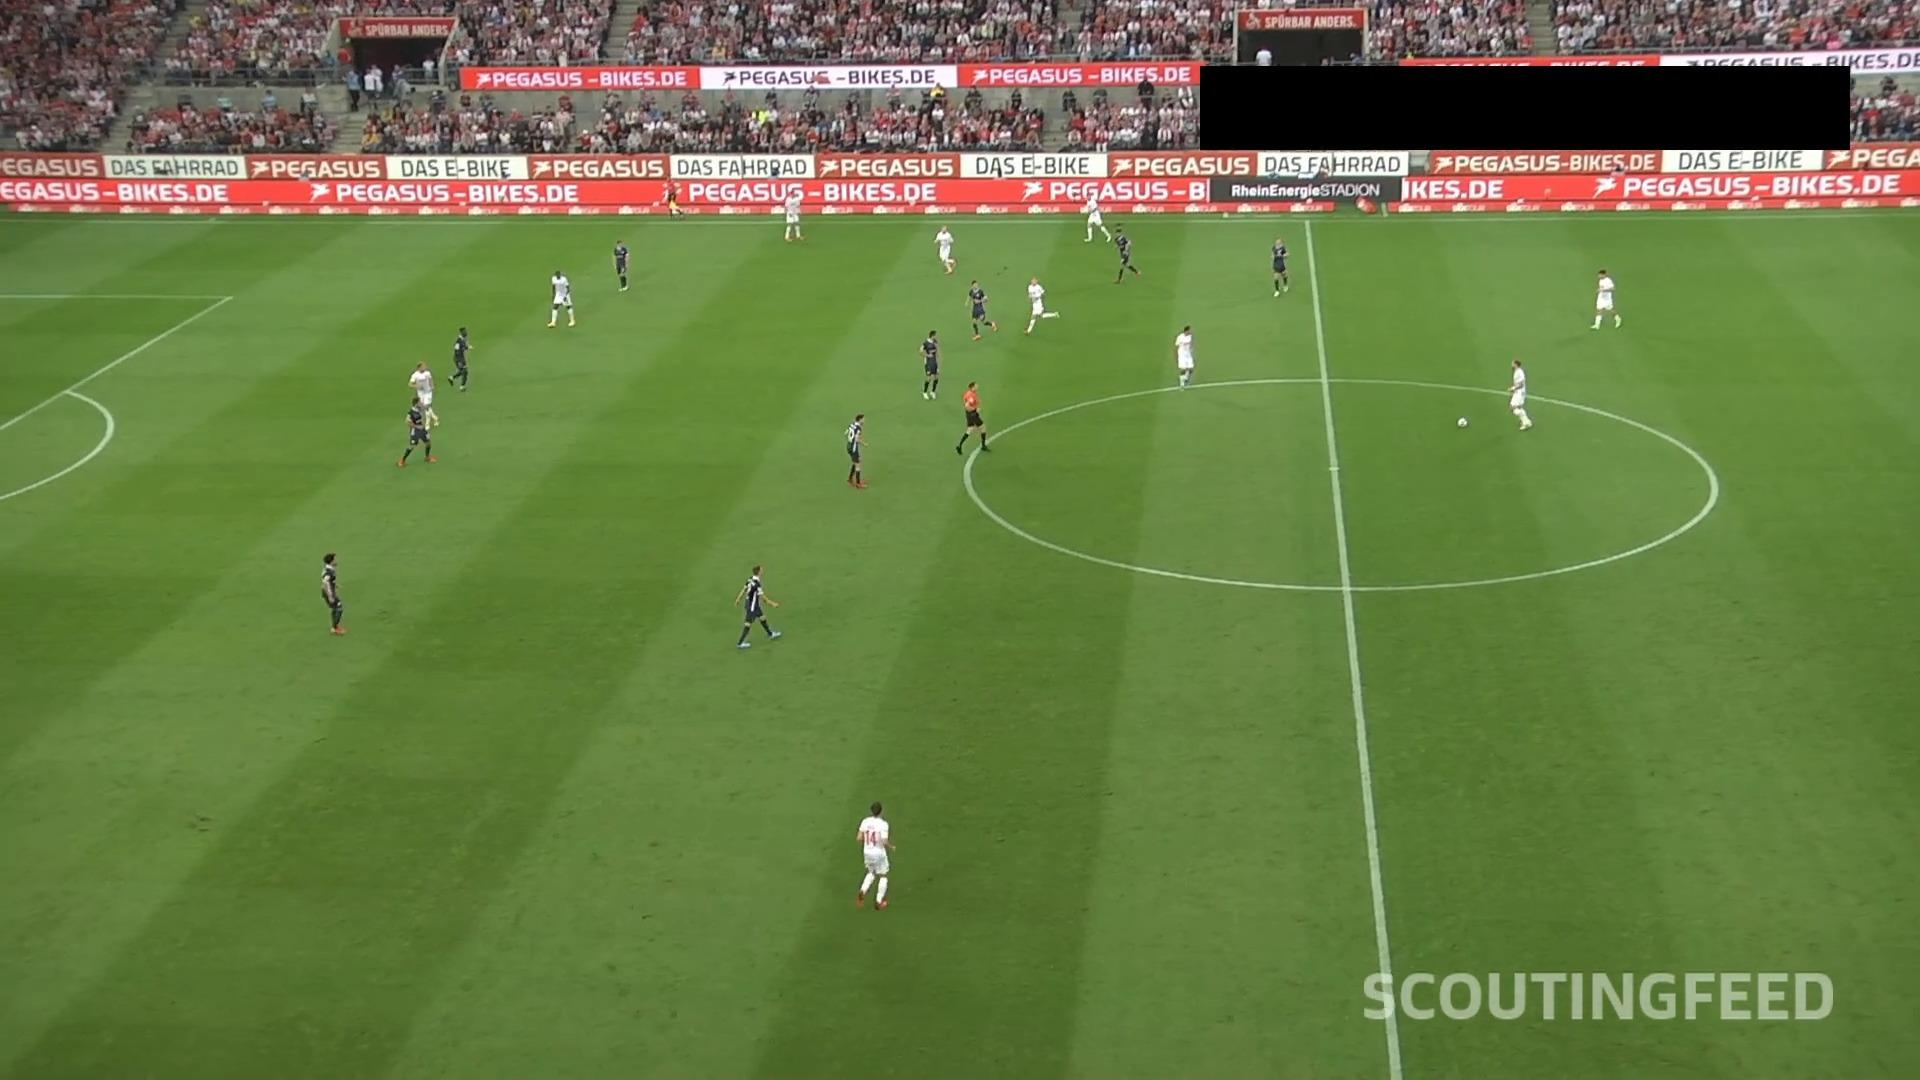ball: (1456, 417, 1469, 430)
